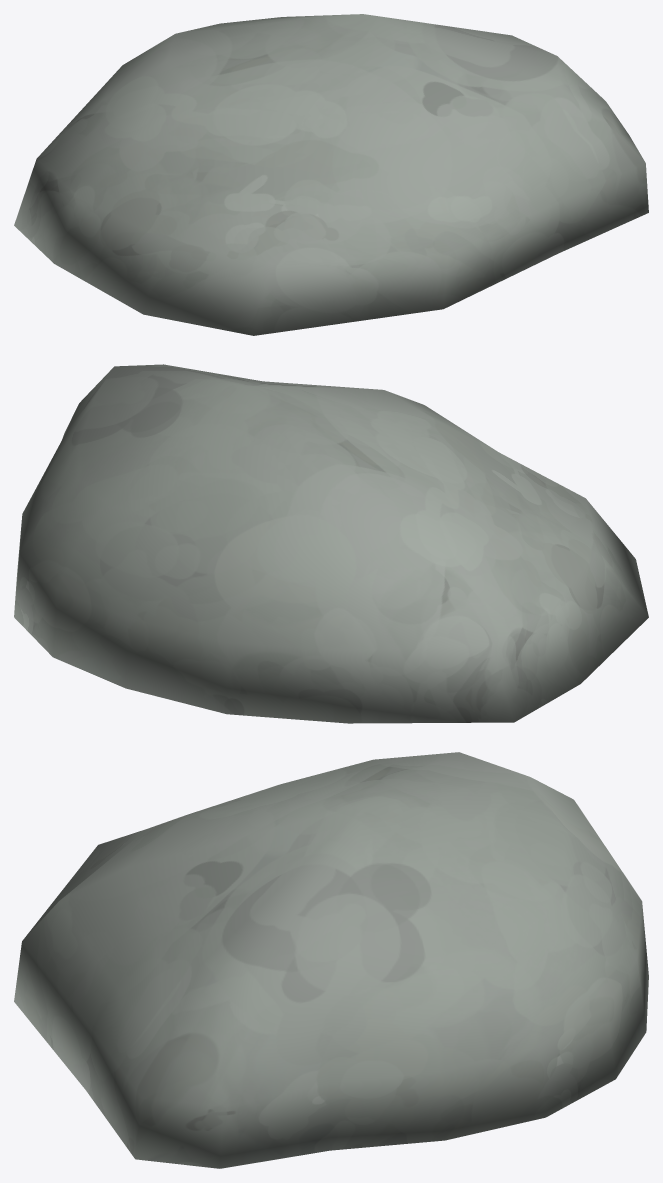
The model's file is SM_Small_Rocks_03.fbx.
The picture shows the model from 3 angles, top to bottom: view 1: azimuth 30°, elevation 25°; view 2: azimuth 150°, elevation 25°; view 3: azimuth 270°, elevation 25°; orthographic projection. The views are drawn at different scales.
Parts seen in each view (by area): view 1: Pedra; view 2: Pedra; view 3: Pedra.
Boxes of the visible parts, left/top/right/bottom form: Pedra: left=14, top=14, right=648, bottom=335; Pedra: left=14, top=364, right=648, bottom=723; Pedra: left=14, top=752, right=648, bottom=1168.
Bounding box in the file's own units: 761 × 257 × 638.
Materials: 1 (1 with a texture image).
